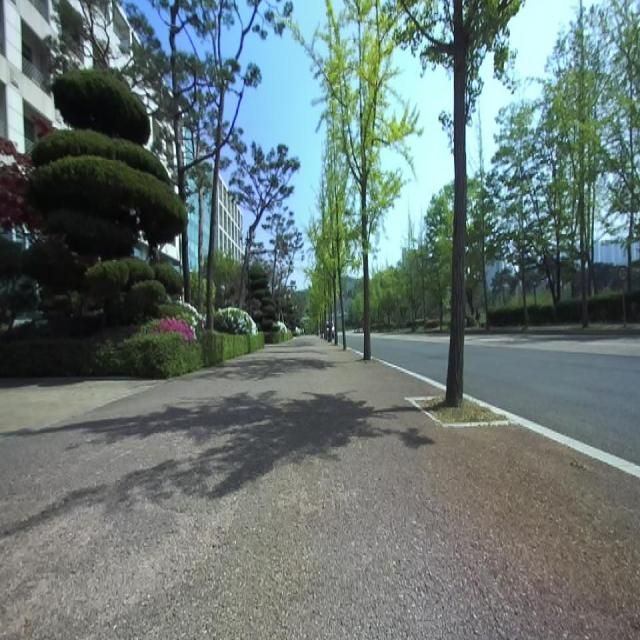sidewalk: (0, 338, 640, 638), (463, 390, 640, 478), (374, 357, 446, 391)
